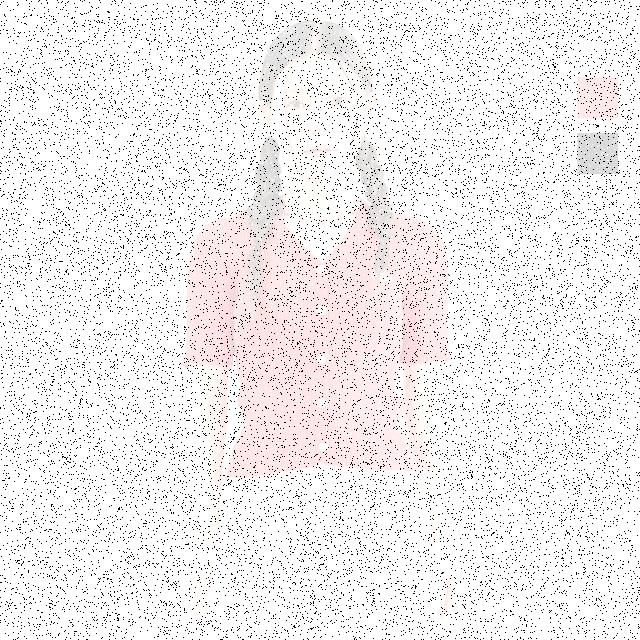dress: (182, 198, 453, 474)
